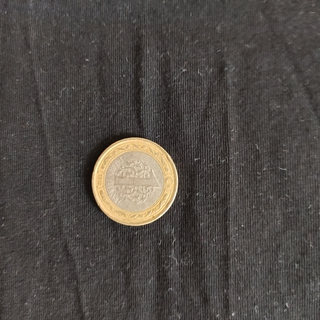1TL: (89, 134, 180, 227)
